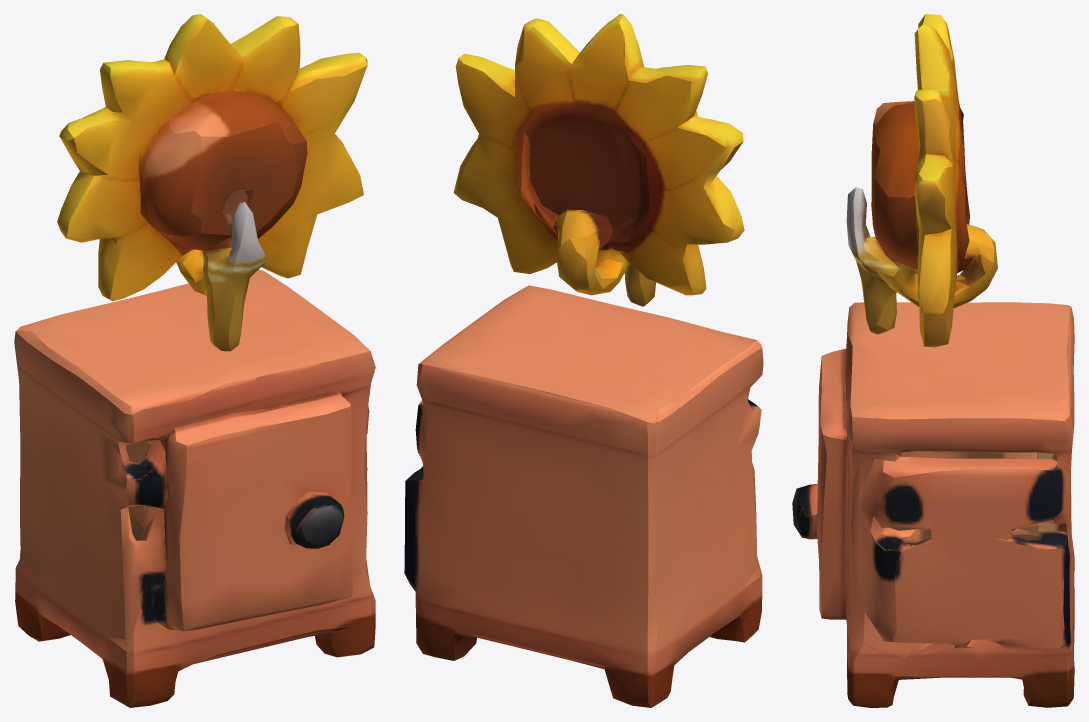
File: keys-cabinet.glb
The picture shows the model from 3 angles, left to right: view 1: azimuth 30°, elevation 25°; view 2: azimuth 150°, elevation 25°; view 3: azimuth 270°, elevation 25°; orthographic projection. The views are drawn at different scales.
Parts seen in each view (by area): view 1: geometry_0; view 2: geometry_0; view 3: geometry_0.
Part boxes in pixels (x1,y1,x2,y2): geometry_0: (14,14,375,707); geometry_0: (404,14,763,707); geometry_0: (792,14,1074,707).
Size of the model in its own units: 0.4841 by 1 by 0.4116.
1 material, 1 textured.
